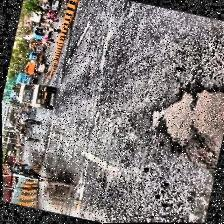pothole: (136, 68, 224, 186)
